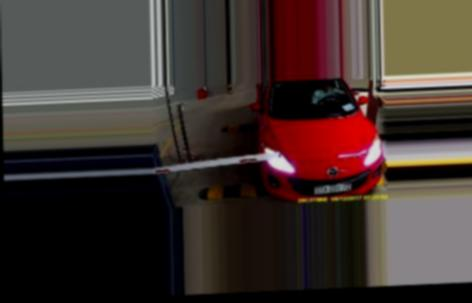License_Plate: (311, 184, 352, 195)
